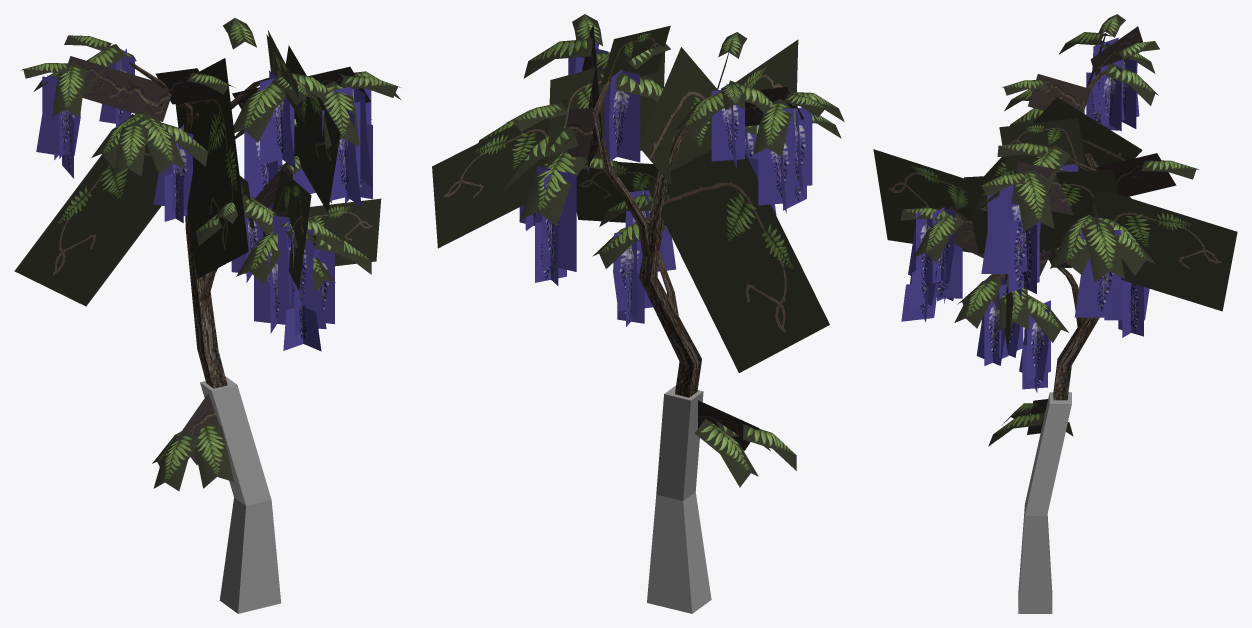
Rendered from Scene_Tree_tengluo1.FBX.
3 views of the same model, side by side, from view 1: azimuth 30°, elevation 25°; view 2: azimuth 150°, elevation 25°; view 3: azimuth 270°, elevation 25° (orthographic). The views are drawn at different scales.
Visible parts, largest first — view 1: Scene_Tree_tengluo1_a, Scene_Tree_tengluo1_Xzm, Scene_Tree_tengluo1_b; view 2: Scene_Tree_tengluo1_a, Scene_Tree_tengluo1_Xzm, Scene_Tree_tengluo1_b; view 3: Scene_Tree_tengluo1_a, Scene_Tree_tengluo1_Xzm, Scene_Tree_tengluo1_b.
Boxes of the visible parts, x1=… form: Scene_Tree_tengluo1_a: x1=14, y1=18, x2=401, y2=491; Scene_Tree_tengluo1_Xzm: x1=200, y1=376, x2=281, y2=613; Scene_Tree_tengluo1_b: x1=129, y1=62, x2=277, y2=388; Scene_Tree_tengluo1_a: x1=432, y1=14, x2=844, y2=487; Scene_Tree_tengluo1_Xzm: x1=647, y1=385, x2=711, y2=613; Scene_Tree_tengluo1_b: x1=592, y1=68, x2=701, y2=397; Scene_Tree_tengluo1_a: x1=873, y1=14, x2=1237, y2=446; Scene_Tree_tengluo1_Xzm: x1=1018, y1=392, x2=1071, y2=613; Scene_Tree_tengluo1_b: x1=1039, y1=69, x2=1131, y2=400.
Bounding box in the file's own units: 613 × 976 × 605.
